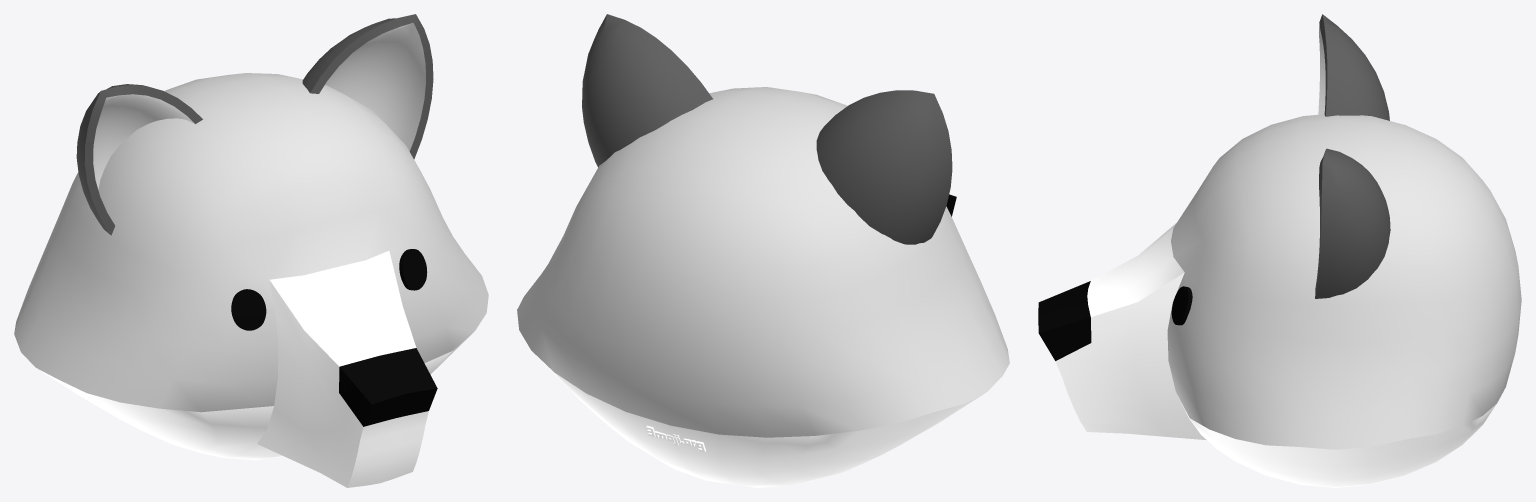
3 renders of one model, left to right at view 1: azimuth 30°, elevation 25°; view 2: azimuth 150°, elevation 25°; view 3: azimuth 270°, elevation 25°, orthographic. The views are drawn at different scales.
Visible parts, largest first — view 1: Cube.6183, Cube.6184, Circle.1845; view 2: Cube.6183, Cube.6184; view 3: Cube.6183, Cube.6184, Circle.1845.
Boxes of the visible parts, bbox=[...] form: Cube.6183: bbox=[14, 73, 488, 487]; Cube.6184: bbox=[76, 14, 433, 235]; Circle.1845: bbox=[231, 249, 427, 330]; Cube.6183: bbox=[517, 87, 1009, 487]; Cube.6184: bbox=[582, 14, 952, 244]; Cube.6183: bbox=[1038, 114, 1521, 487]; Cube.6184: bbox=[1315, 14, 1390, 298]; Circle.1845: bbox=[1171, 286, 1192, 325].
Bounding box in the file's own units: 2.18 × 1.89 × 2.18.
1 material, 1 textured.
